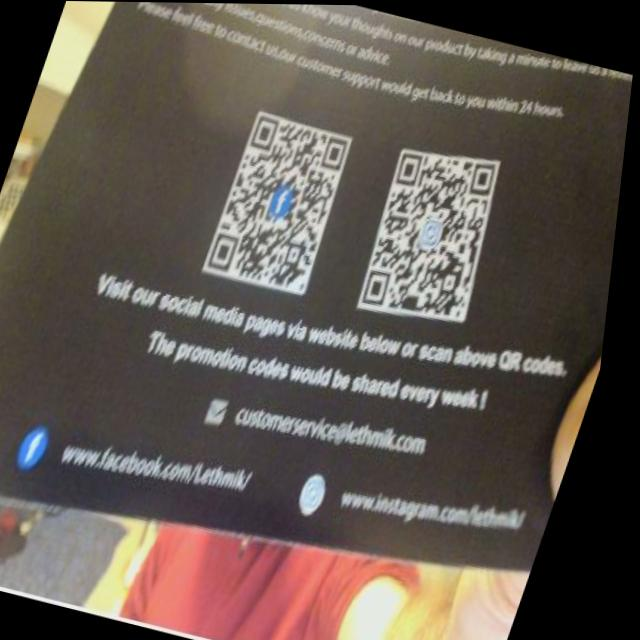QR_CODE: (191, 47, 390, 312), (336, 113, 542, 353)
